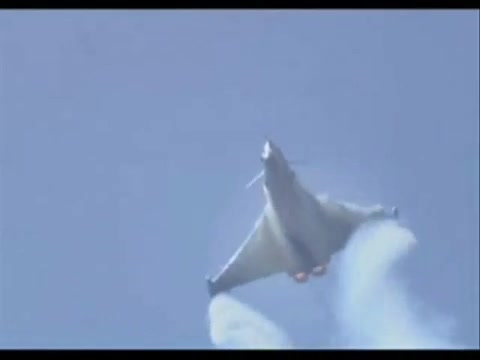aeroplane: (206, 139, 401, 300)
